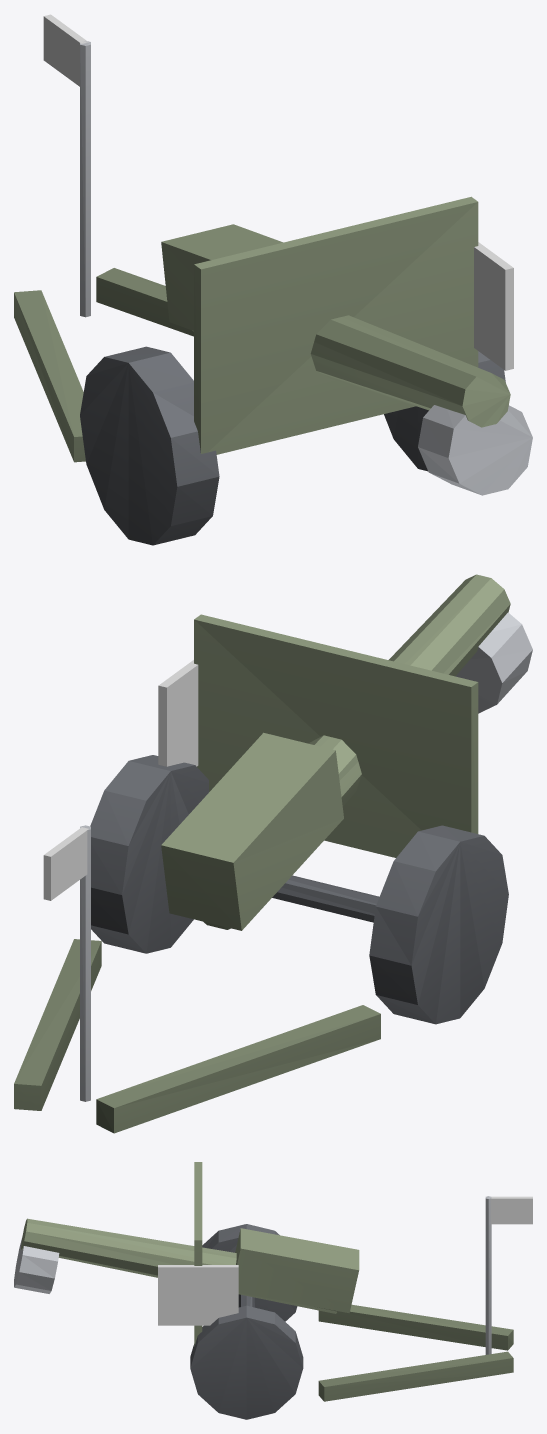
File: Artillery.glb
3 views of the same model, one above another, from view 1: azimuth 30°, elevation 25°; view 2: azimuth 150°, elevation 25°; view 3: azimuth 270°, elevation 25° (orthographic). The views are drawn at different scales.
Parts seen in each view (by area): view 1: Body; view 2: Body; view 3: Body.
Part boxes in pixels (x1,y1,x2,y2): Body: (14, 14, 532, 545); Body: (14, 574, 532, 1133); Body: (14, 1162, 532, 1419).
Size of the model in its own units: 0.55 by 0.48 by 1.29.
